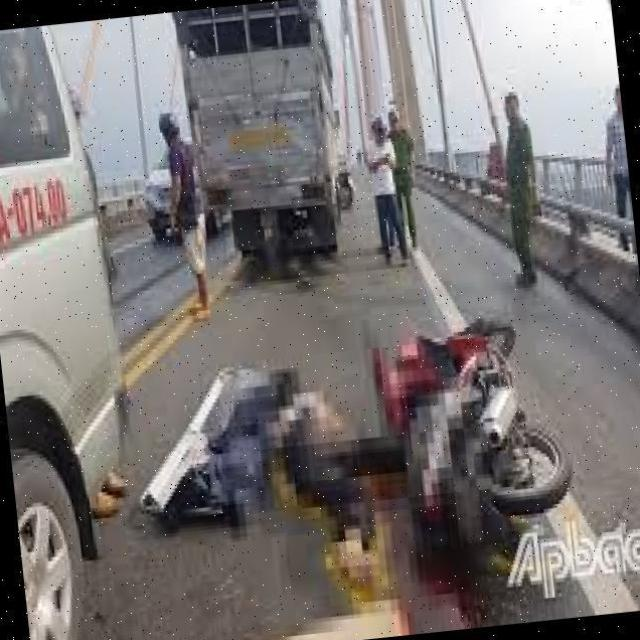accident: (349, 248, 587, 587)
